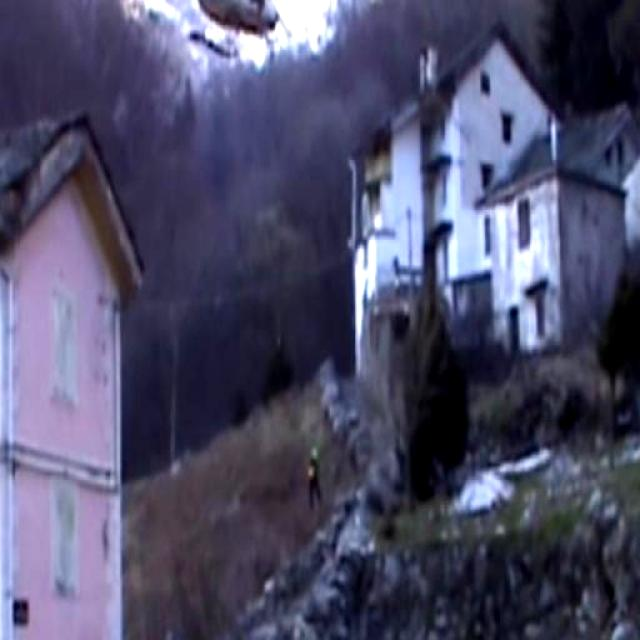drone: (111, 0, 279, 65)
